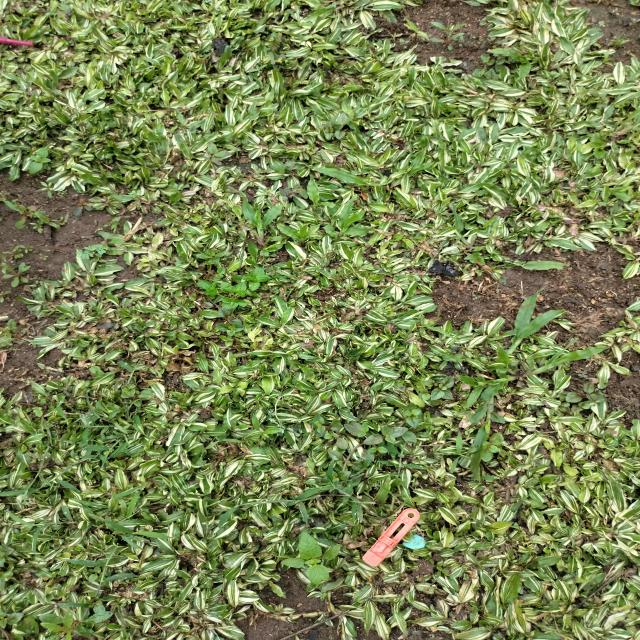bayi: (577, 372, 588, 378), (472, 294, 478, 300), (616, 406, 622, 412)
buah daun: (75, 242, 107, 260), (280, 185, 299, 201)
gingseng jawa: (36, 610, 120, 640), (0, 190, 48, 230), (1, 316, 38, 352), (430, 21, 468, 54), (1, 261, 32, 288), (19, 244, 37, 254), (38, 253, 50, 262)
rambat atas: (299, 479, 379, 519), (92, 405, 142, 450), (92, 544, 134, 596), (41, 416, 82, 448), (48, 458, 82, 493), (8, 508, 51, 531), (34, 445, 55, 487), (116, 359, 144, 384), (100, 439, 124, 468), (1, 485, 36, 504), (450, 432, 465, 473), (104, 487, 125, 513)
rambat bawah: (521, 344, 610, 380), (515, 288, 568, 339), (472, 394, 505, 474), (455, 366, 533, 398), (323, 194, 370, 239), (240, 198, 282, 248), (489, 46, 532, 80), (275, 222, 322, 245), (504, 256, 570, 272), (453, 220, 475, 250), (309, 174, 326, 212), (32, 210, 62, 231)
tunggang besar: (280, 530, 342, 590), (28, 146, 55, 174)
tunggang tengah: (202, 139, 234, 168)
ungu tunggang: (345, 420, 418, 455), (565, 382, 605, 410), (319, 112, 352, 141), (312, 412, 345, 440), (240, 266, 274, 292), (429, 374, 454, 402), (197, 248, 226, 266), (215, 321, 248, 336), (197, 278, 220, 296), (221, 295, 250, 309)
